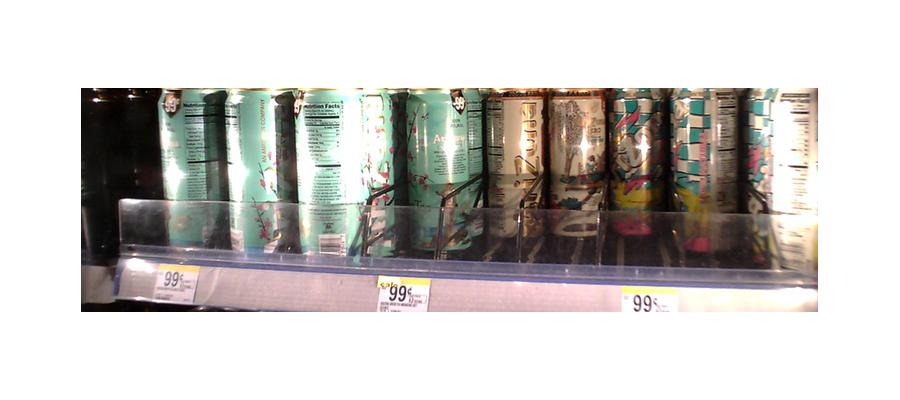bottle: (291, 85, 381, 267), (404, 88, 484, 257), (753, 80, 819, 282), (673, 91, 742, 262), (158, 87, 225, 251), (230, 87, 288, 257), (550, 96, 606, 263), (487, 90, 542, 258), (614, 88, 667, 259)
